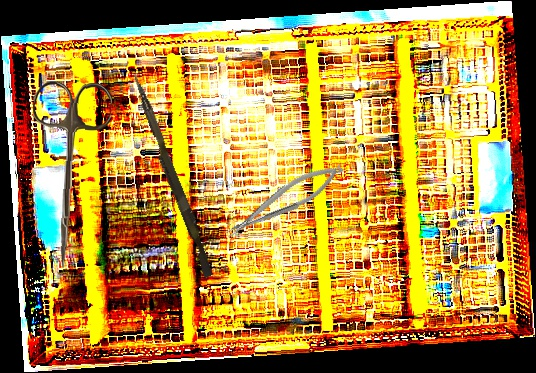Iris Scissors: (27, 80, 113, 270)
Needle Holder: (218, 156, 350, 244)
Pusher: (124, 73, 219, 278)
